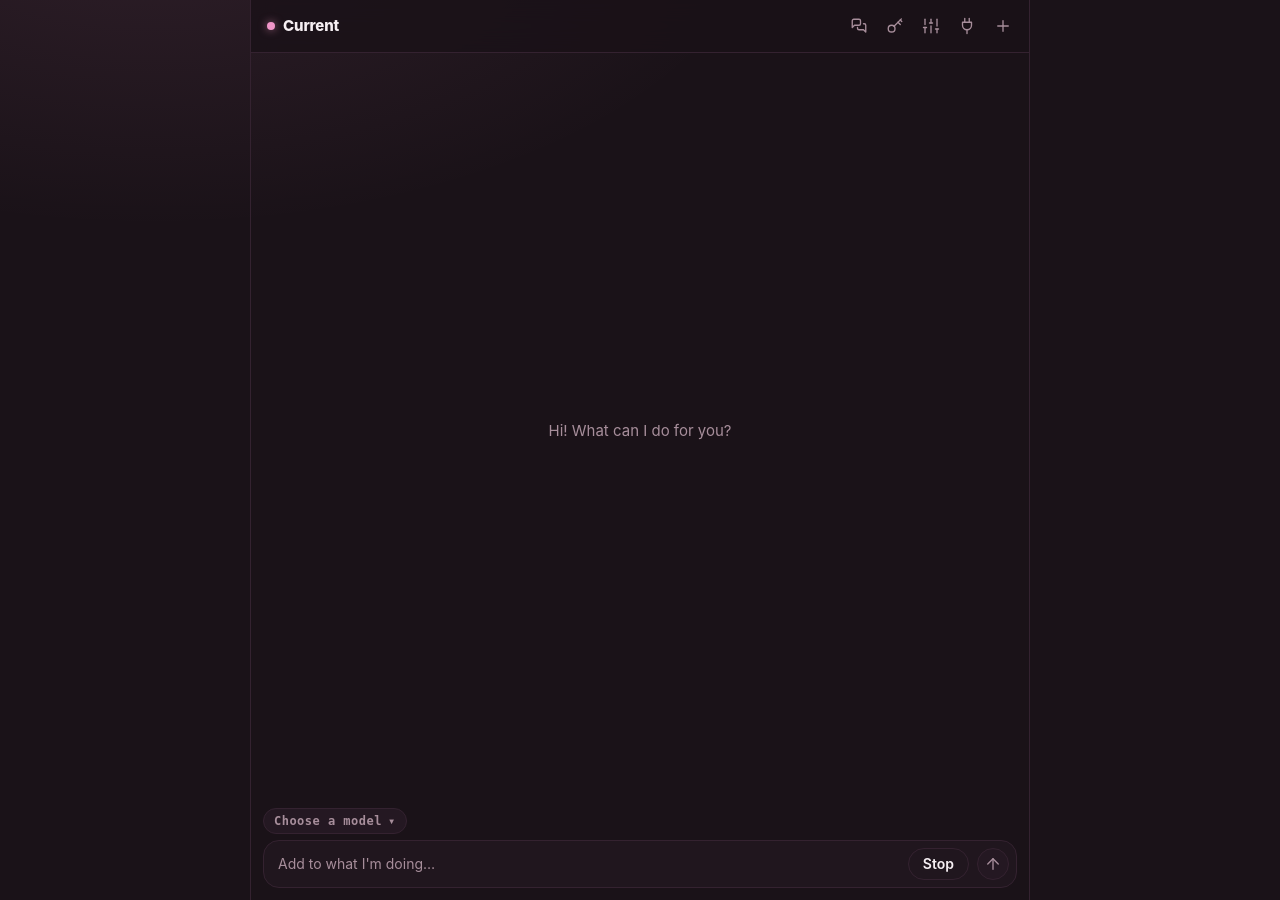
it: switching while the assistant answers › asks first, and Cancel keeps the running answer
The width and height of the screenshot is (1280, 900).
What coordinates should you click on to do the following:
click the button named "New conversation"
I would click on:
 (1003, 26)
Its box is [987,10,1019,42].
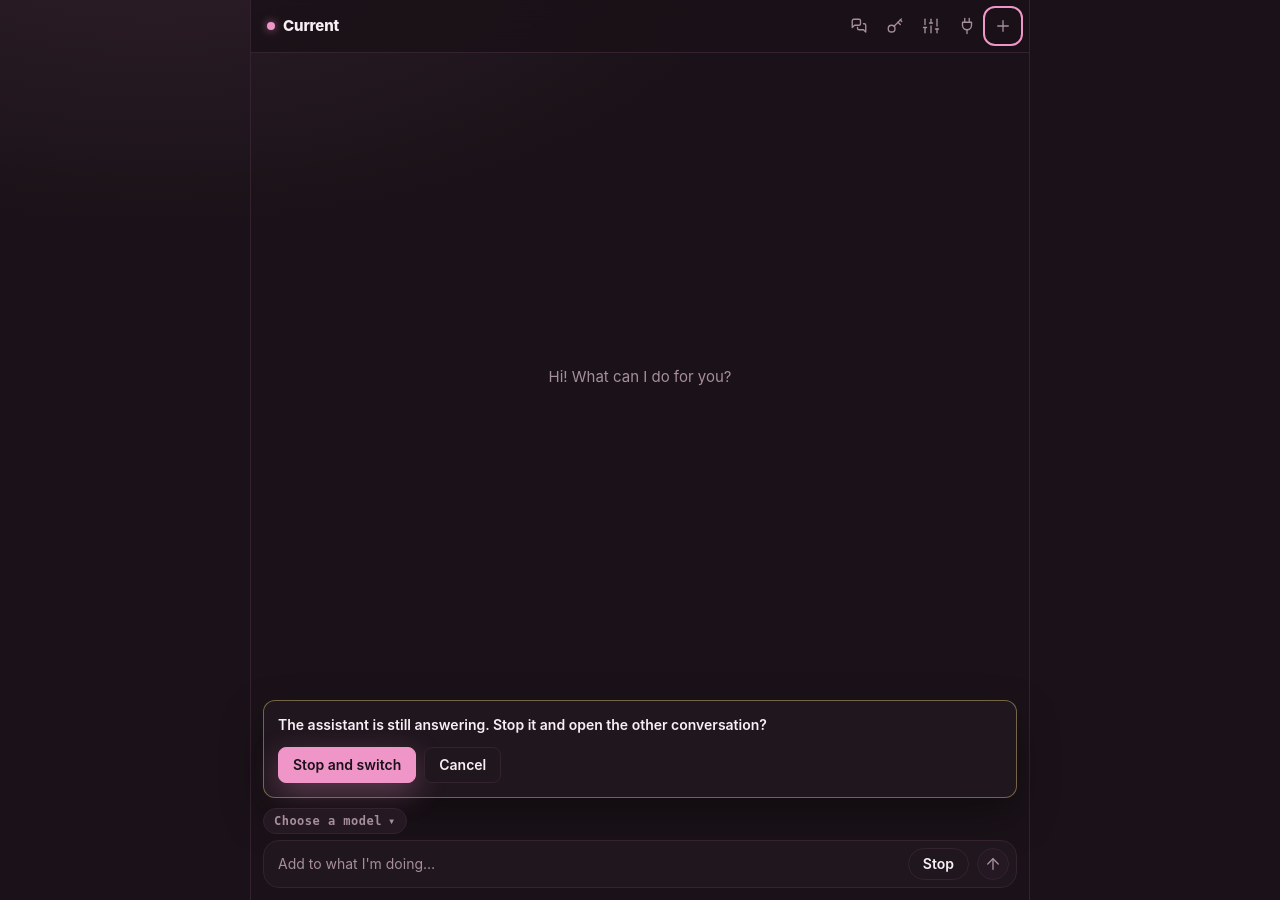
Expected: the dialog named "Stop and switch?" shows "The assistant is still answering. Stop it and open the other conversation?", [278,716,767,733]
What coordinates should you click on to do the following:
click the button "Cancel"
I would click on:
 (463, 765)
Its box is [424,747,501,783].
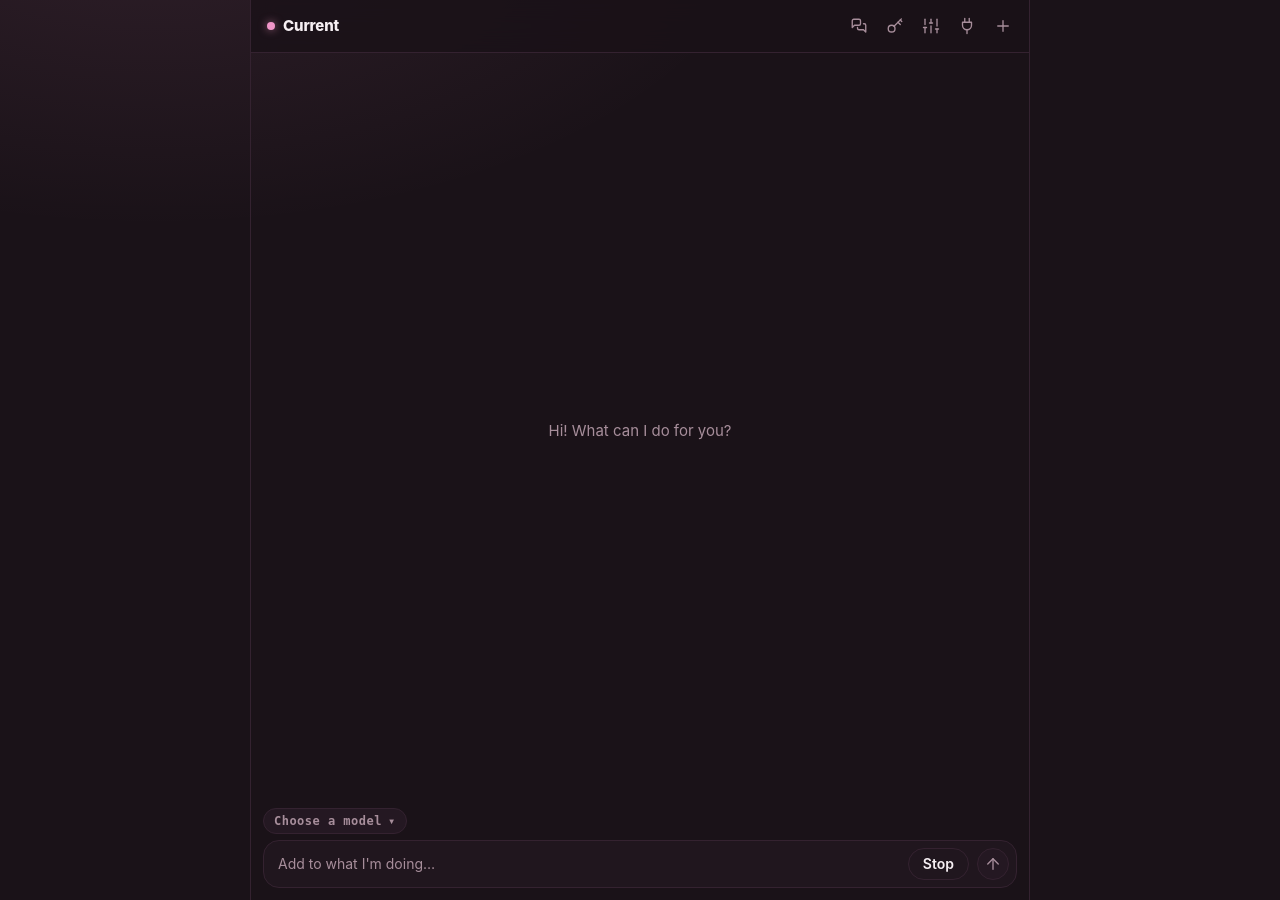
Expected: the dialog is gone
